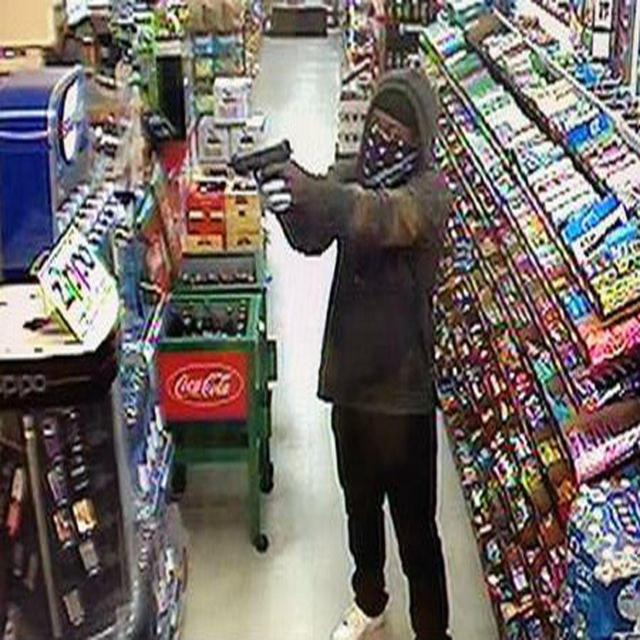gun: (227, 139, 293, 216)
